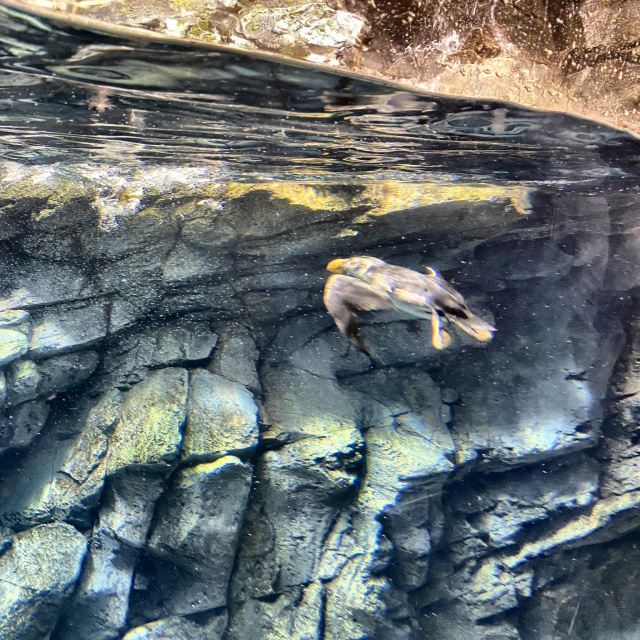puffin: (319, 248, 500, 361)
